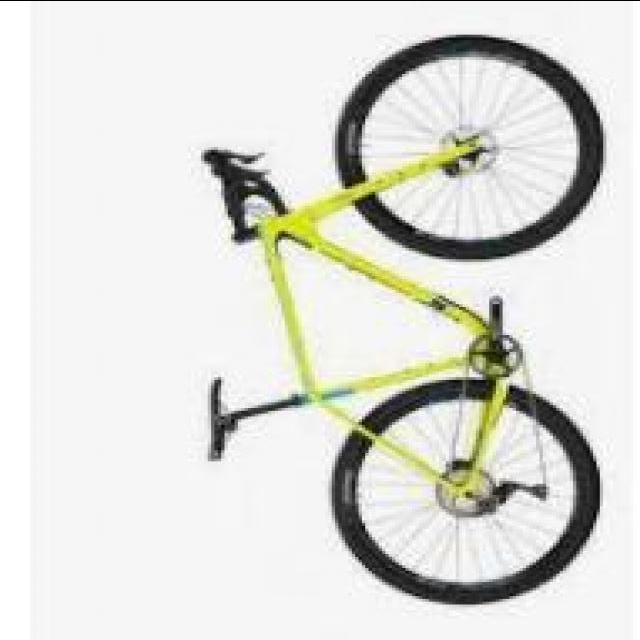bicycle: (185, 21, 611, 599)
